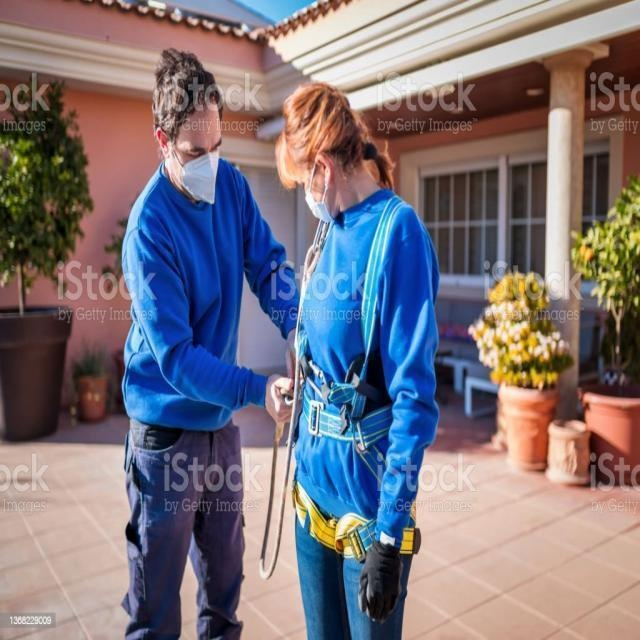Arnes_seguridad: (292, 191, 428, 574)
